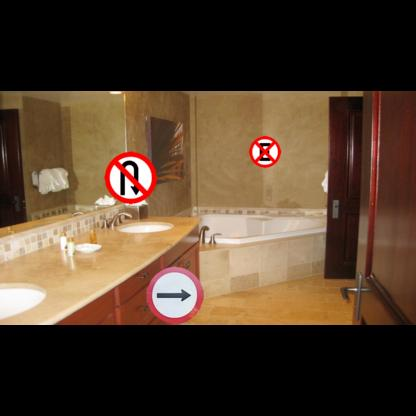R-24a: (146, 266, 204, 324)
R-6c: (249, 136, 281, 168)
